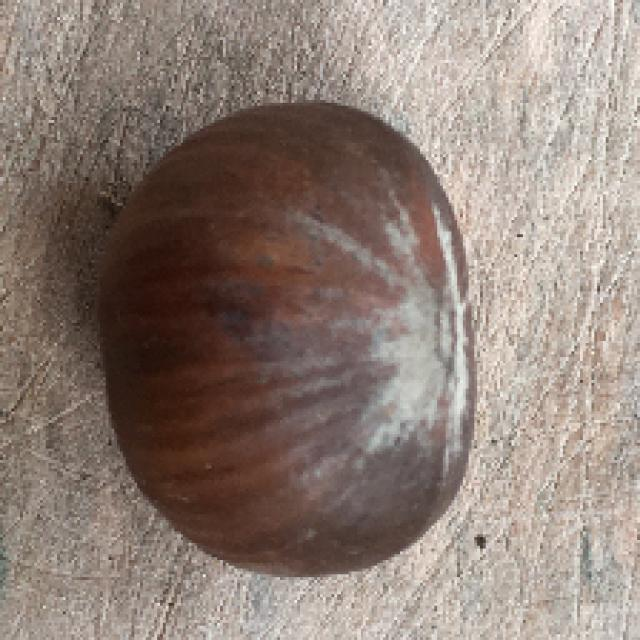qualityHazelnut: (103, 106, 484, 571)
